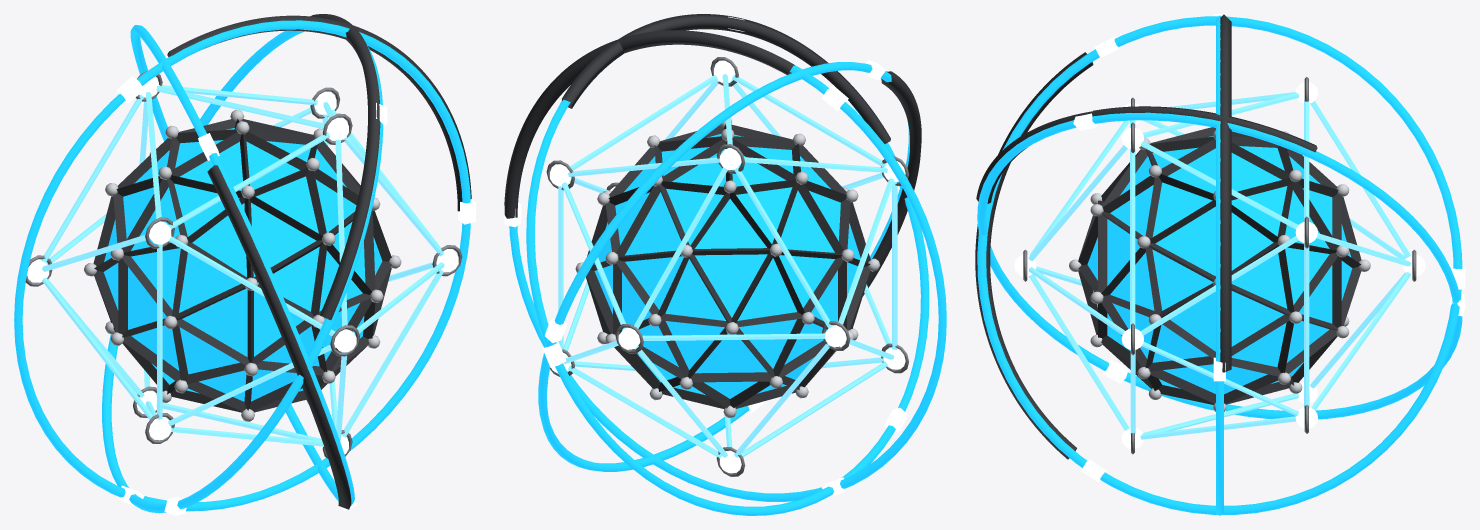
File: core_internet.glb
3 renders of one model, left to right at view 1: azimuth 30°, elevation 25°; view 2: azimuth 150°, elevation 25°; view 3: azimuth 270°, elevation 25°, orthographic. The views are drawn at different scales.
Visible parts, largest first — view 1: corePanels, coreFrame, spin2_dataLine_m, orbitRail0, orbitRail1, orbitRail2, orbitTrack2, orbitTrack1, spin_chrome_m, spin2_glowWhite_m, orbitTrack0, spin2_steel_m (+1 smaller); view 2: corePanels, coreFrame, spin2_dataLine_m, orbitRail1, orbitRail0, orbitRail2, orbitTrack0, orbitTrack1, spin_chrome_m, spin2_glowWhite_m, orbitTrack2, spin2_steel_m (+3 smaller); view 3: corePanels, coreFrame, spin2_dataLine_m, orbitRail2, orbitRail1, orbitTrack0, orbitTrack2, orbitRail0, spin2_glowWhite_m, spin_chrome_m, orbitTrack1, spin2_steel_m (+2 smaller).
Part boxes in pixels (x1=…): corePanels: x1=103, y1=128, x2=382, y2=401; coreFrame: x1=93, y1=119, x2=391, y2=412; spin2_dataLine_m: x1=41, y1=85, x2=444, y2=446; orbitRail0: x1=14, y1=20, x2=470, y2=511; orbitRail1: x1=102, y1=30, x2=383, y2=513; orbitRail2: x1=130, y1=25, x2=354, y2=505; orbitTrack2: x1=207, y1=165, x2=351, y2=509; orbitTrack1: x1=310, y1=14, x2=380, y2=319; spin_chrome_m: x1=84, y1=109, x2=401, y2=421; spin2_glowWhite_m: x1=27, y1=77, x2=458, y2=454; orbitTrack0: x1=167, y1=15, x2=471, y2=211; spin2_steel_m: x1=25, y1=70, x2=462, y2=459; corePanels: x1=594, y1=134, x2=860, y2=398; coreFrame: x1=586, y1=124, x2=870, y2=408; spin2_dataLine_m: x1=558, y1=74, x2=897, y2=458; orbitRail1: x1=526, y1=99, x2=929, y2=515; orbitRail0: x1=509, y1=65, x2=946, y2=501; orbitRail2: x1=538, y1=62, x2=909, y2=471; orbitTrack0: x1=504, y1=30, x2=794, y2=218; orbitTrack1: x1=562, y1=14, x2=890, y2=143; spin_chrome_m: x1=575, y1=119, x2=880, y2=417; spin2_glowWhite_m: x1=550, y1=61, x2=905, y2=472; orbitTrack2: x1=863, y1=71, x2=921, y2=295; spin2_steel_m: x1=546, y1=57, x2=909, y2=476; corePanels: x1=1087, y1=136, x2=1352, y2=394; coreFrame: x1=1078, y1=127, x2=1361, y2=404; spin2_dataLine_m: x1=1028, y1=92, x2=1411, y2=439; orbitRail2: x1=977, y1=16, x2=1462, y2=514; orbitRail1: x1=977, y1=112, x2=1462, y2=419; orbitTrack0: x1=1220, y1=14, x2=1231, y2=372; orbitTrack2: x1=975, y1=52, x2=1093, y2=459; orbitRail0: x1=1216, y1=15, x2=1223, y2=515; spin2_glowWhite_m: x1=1014, y1=82, x2=1425, y2=448; spin_chrome_m: x1=1069, y1=130, x2=1370, y2=411; orbitTrack1: x1=976, y1=106, x2=1317, y2=203; spin2_steel_m: x1=1023, y1=77, x2=1416, y2=454.
Bounding box in the file's own units: 0.492 × 0.492 × 0.4791.
6 materials, 1 textured.
